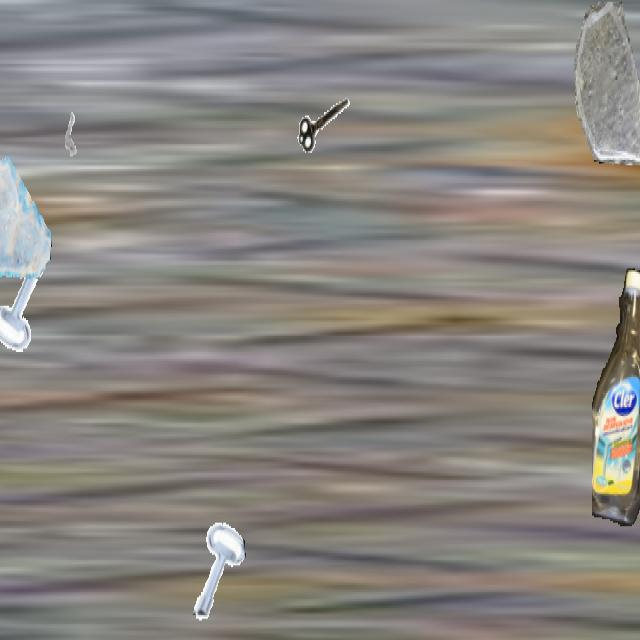glass: (569, 2, 640, 165), (0, 151, 52, 283)
metal: (186, 516, 246, 622), (295, 74, 353, 178), (0, 247, 53, 357), (52, 92, 90, 160)
plastic: (592, 268, 640, 524)
